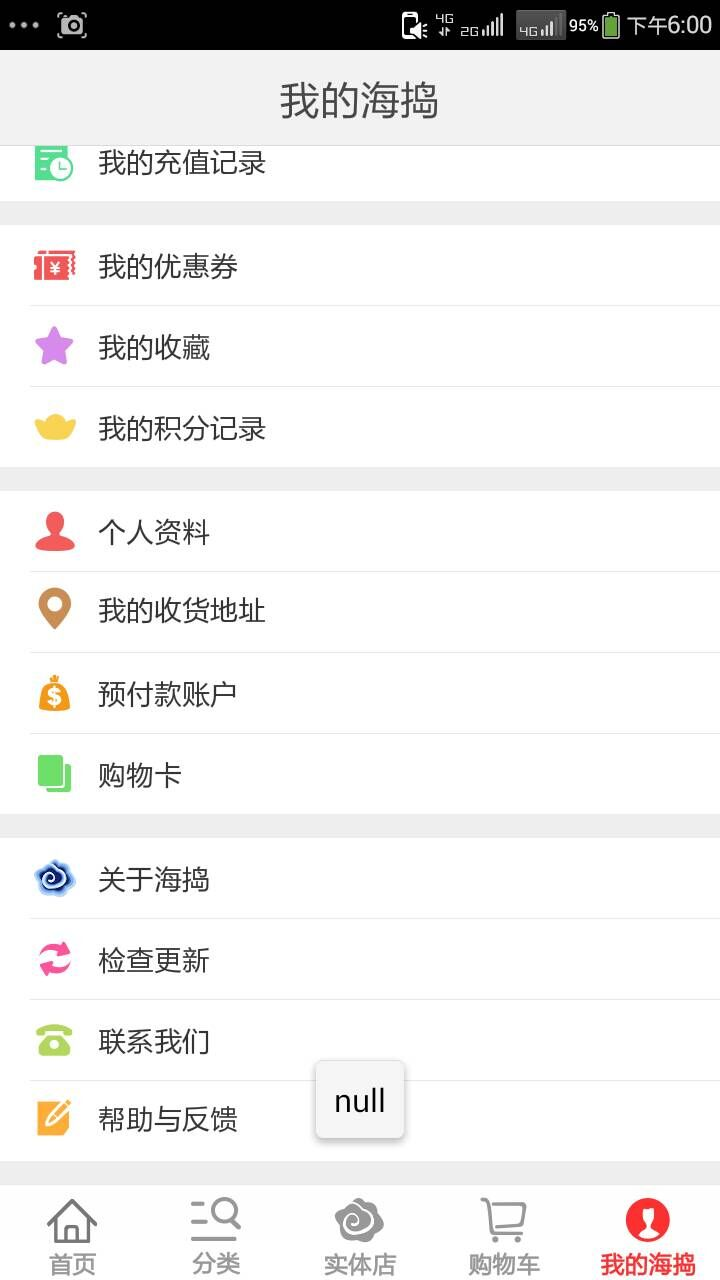nav: (2, 1183, 708, 1280)
textview: (1, 485, 720, 821)
